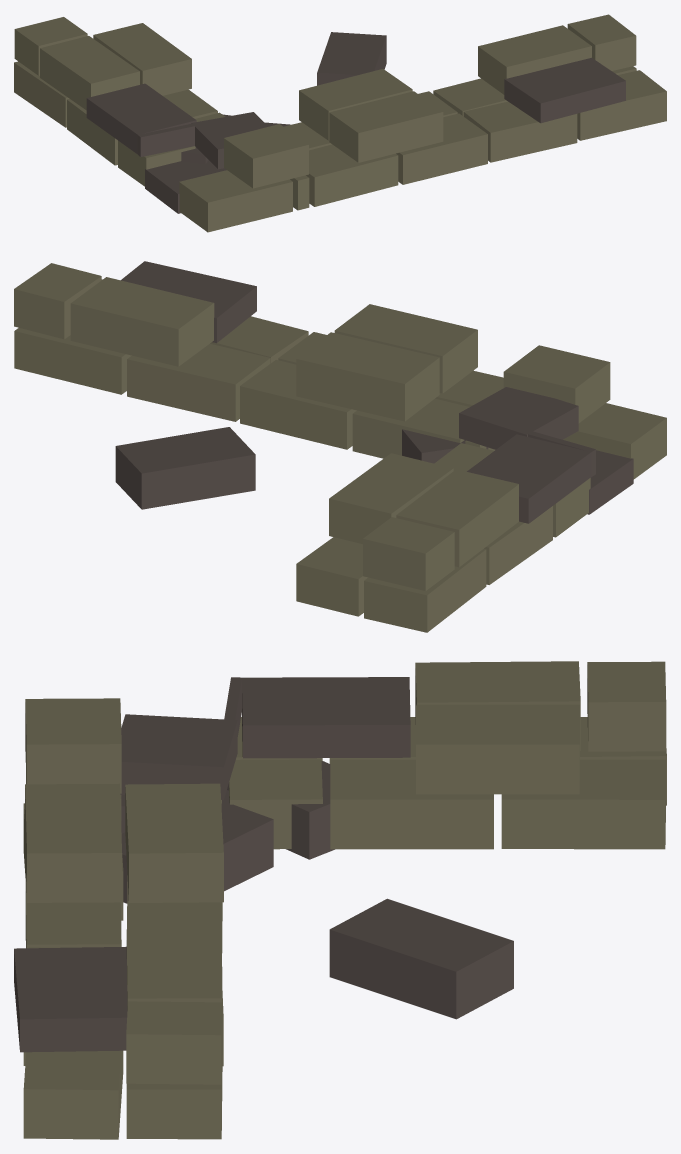
Rendered from SM_PretilEsquinaPaso_v3_Tablon_e2_MuyDanado_LOD0.fbx.
The picture shows the model from 3 angles, top to bottom: view 1: azimuth 30°, elevation 25°; view 2: azimuth 150°, elevation 25°; view 3: azimuth 270°, elevation 25°; orthographic projection. The views are drawn at different scales.
Parts seen in each view (by area): view 1: SM_pretil_azotea_v54_LOD0; view 2: SM_pretil_azotea_v54_LOD0; view 3: SM_pretil_azotea_v54_LOD0.
Part boxes in pixels (box(x1,y1,x2,y2)): SM_pretil_azotea_v54_LOD0: box(14, 14, 666, 232); SM_pretil_azotea_v54_LOD0: box(14, 261, 666, 632); SM_pretil_azotea_v54_LOD0: box(14, 661, 666, 1139).
Bounding box in the file's own units: 4.42 × 0.585 × 3.23.
